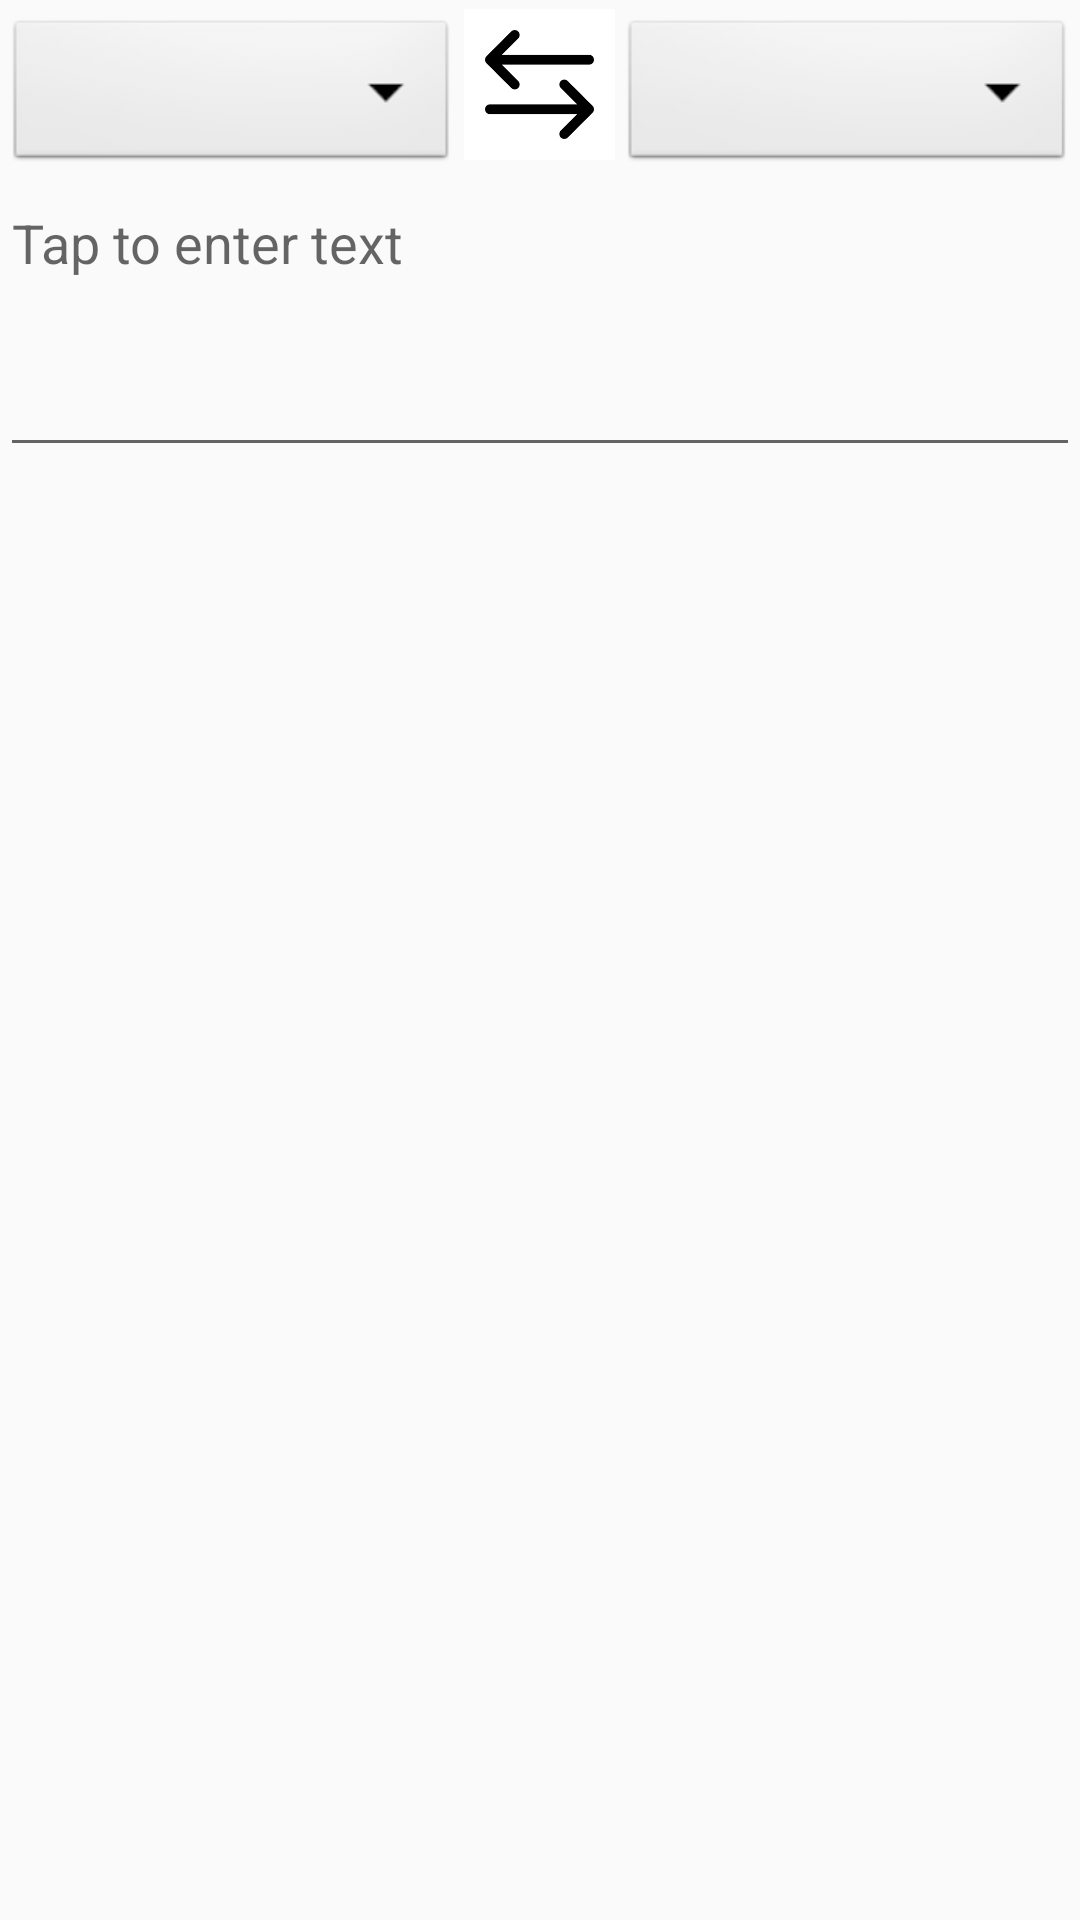

Point at icon controls on the screen. Image size 1080x1920, points as (x,y).
exchange: (539,84)
